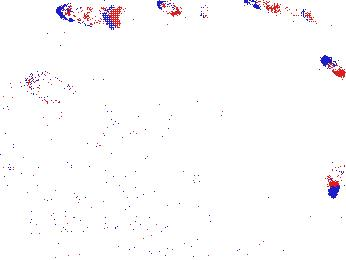X-ray fish: (16, 68, 82, 106)
red belly glassfish: (157, 1, 204, 18), (318, 54, 346, 78), (326, 164, 343, 199)
redtail glassfish: (56, 2, 120, 32), (243, 1, 316, 27)
